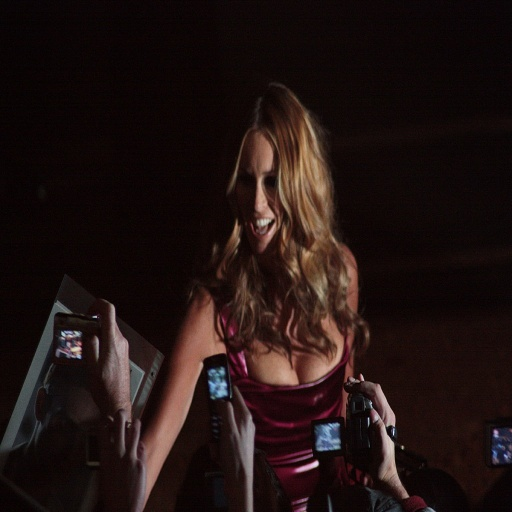hand: (72, 292, 133, 457), (343, 371, 398, 492), (93, 407, 149, 511), (221, 383, 257, 482)
